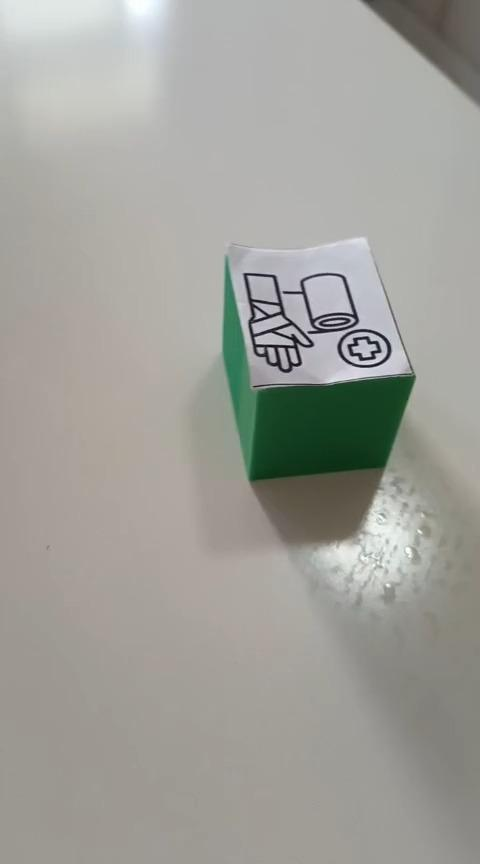Bandages: (220, 235, 416, 482)
